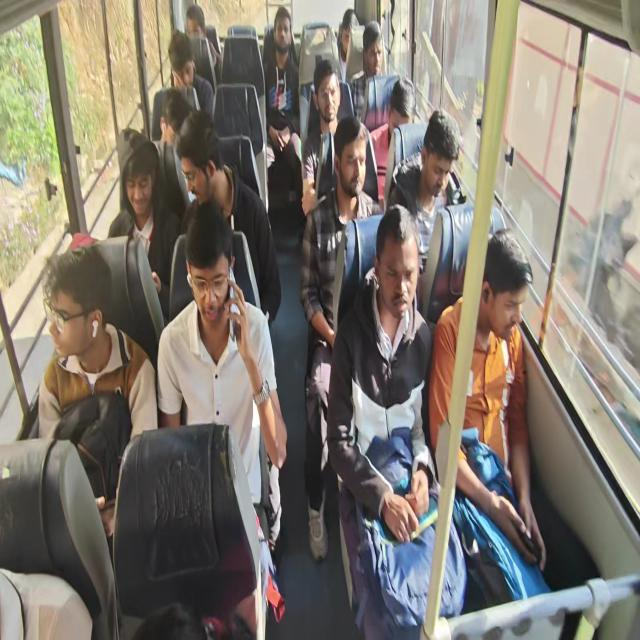person: (46, 248, 110, 356), (484, 242, 529, 342), (180, 236, 228, 322), (419, 114, 466, 200), (116, 122, 158, 215), (378, 224, 420, 311), (180, 119, 217, 209), (340, 125, 367, 206), (386, 84, 417, 148), (312, 65, 342, 129), (167, 43, 196, 90), (158, 99, 183, 149), (334, 12, 361, 58), (268, 8, 294, 48), (362, 30, 383, 78), (185, 13, 207, 40)
